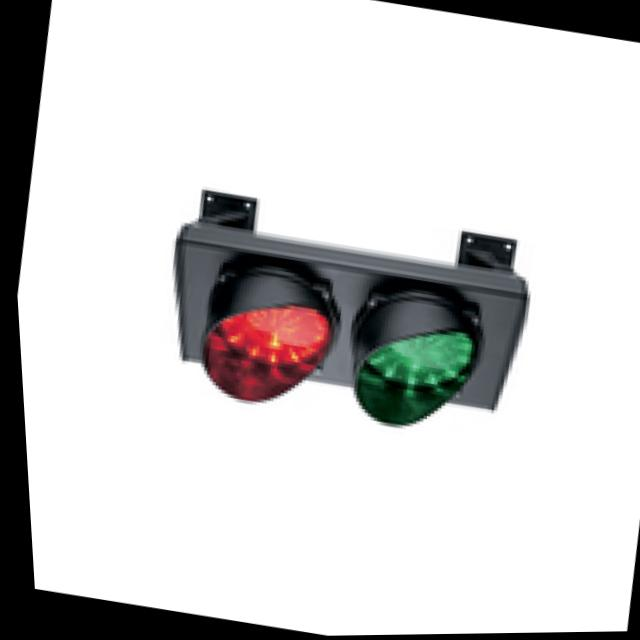red_light: (155, 245, 355, 426)
